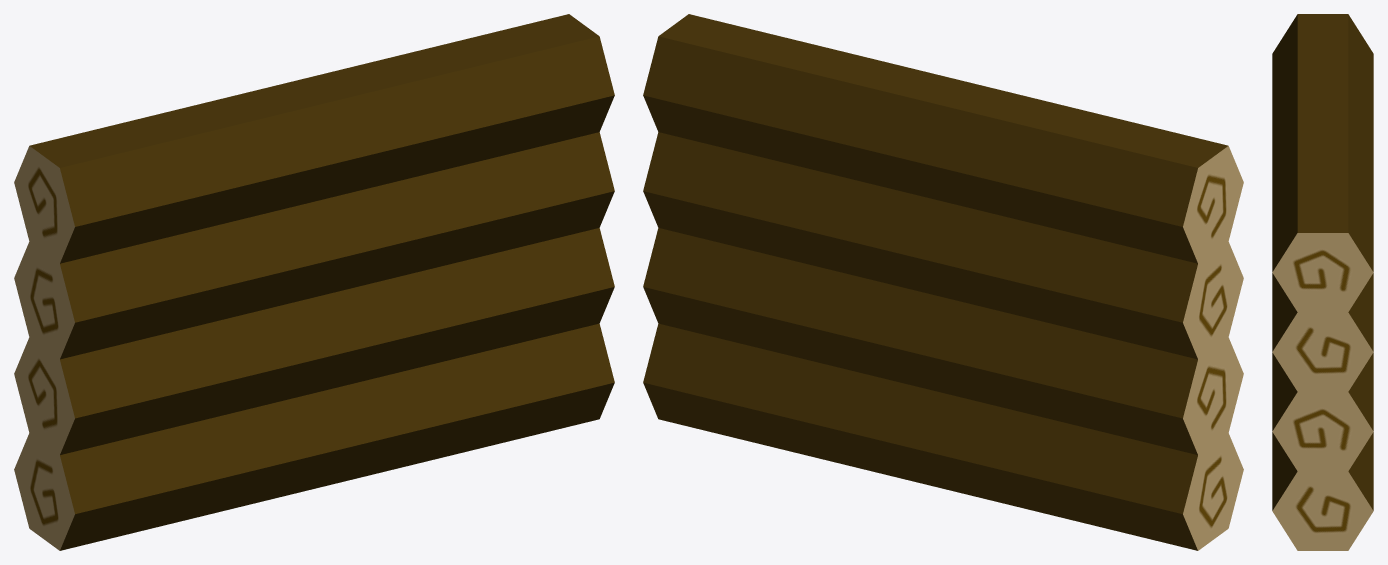
Rendered from Wall_4x4.fbx.
3 renders of one model, left to right at view 1: azimuth 30°, elevation 25°; view 2: azimuth 150°, elevation 25°; view 3: azimuth 270°, elevation 25°, orthographic. The views are drawn at different scales.
Parts seen in each view (by area): view 1: Wall_4x4; view 2: Wall_4x4; view 3: Wall_4x4.
Boxes of the visible parts, box(x1,y1,x2,y2) form: Wall_4x4: box(14, 14, 614, 550); Wall_4x4: box(643, 14, 1243, 550); Wall_4x4: box(1272, 14, 1373, 550).
Bounding box in the file's own units: 10.22 × 6.93 × 2.
